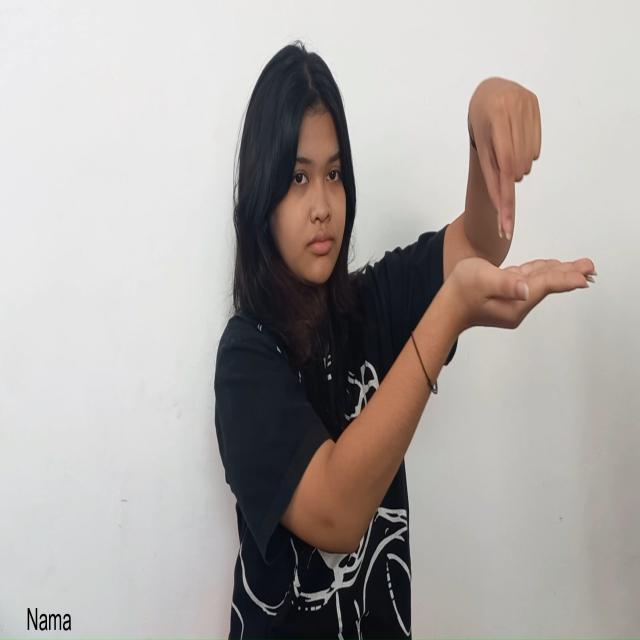Nama -BISINDO-: (450, 77, 598, 330)
